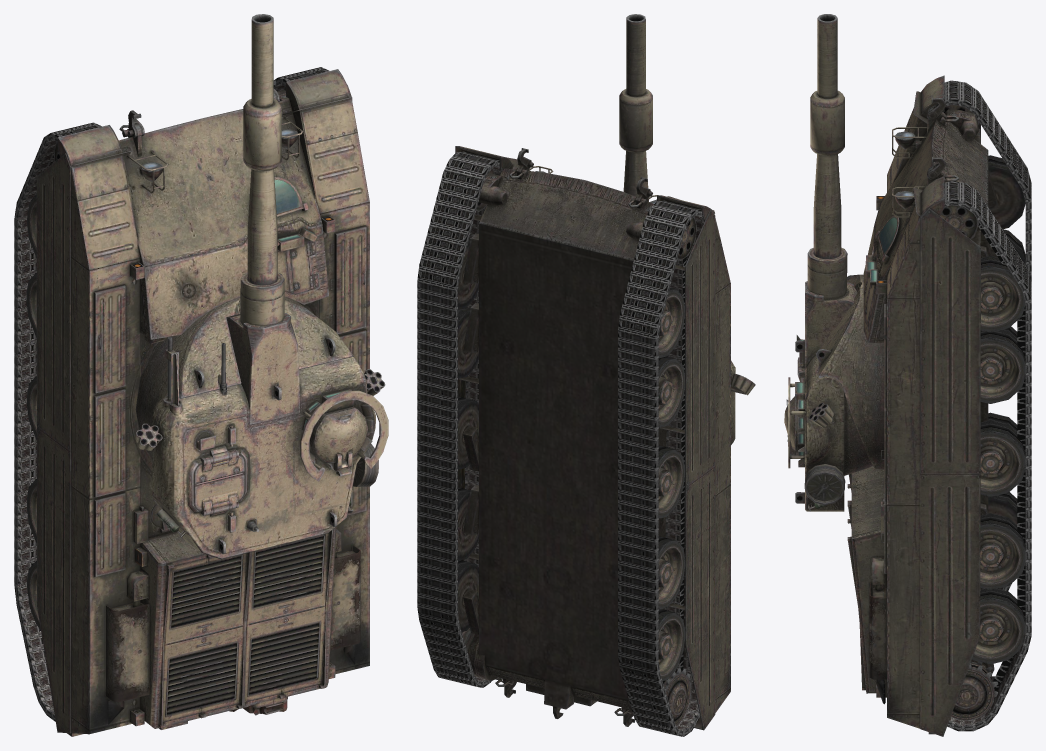
3 views of the same model, side by side, from view 1: azimuth 30°, elevation 25°; view 2: azimuth 150°, elevation 25°; view 3: azimuth 270°, elevation 25° (orthographic). The views are drawn at different scales.
Parts seen in each view (by area): view 1: hull, gun_01_mask, chassis_track_L, turret_01, gun_01; view 2: hull, chassis_track_L, chassis_track_R, gun_01, chassis_wheel_L_05, chassis_wheel_L_03, chassis_wheel_L_04, chassis_wheel_L_06, chassis_wheel_L_02, chassis_wheel_L_07, chassis_wheel_R_04, chassis_wheel_R_06 (+4 smaller); view 3: hull, gun_01_mask, chassis_track_R, gun_01, turret_01, chassis_track_L, chassis_wheel_R_06, chassis_wheel_R_05, chassis_wheel_R_04, chassis_wheel_R_03, chassis_wheel_R_02, chassis_wheel_R_07 (+3 smaller).
Part boxes in pixels (<box>): hull: <box>36,69,369,736</box>; gun_01_mask: <box>135,272,388,559</box>; chassis_track_L: <box>14,122,101,721</box>; turret_01: <box>135,297,353,460</box>; gun_01: <box>243,14,281,285</box>; hull: <box>455,146,730,730</box>; chassis_track_L: <box>618,200,704,736</box>; chassis_track_R: <box>417,151,502,687</box>; gun_01: <box>619,14,652,201</box>; chassis_wheel_L_05: <box>658,536,685,609</box>; chassis_wheel_L_03: <box>658,356,684,427</box>; chassis_wheel_L_04: <box>658,445,684,518</box>; chassis_wheel_L_06: <box>658,609,685,680</box>; chassis_wheel_L_02: <box>658,288,684,358</box>; chassis_wheel_L_07: <box>662,668,690,725</box>; chassis_wheel_R_04: <box>458,396,478,469</box>; chassis_wheel_R_06: <box>458,560,478,631</box>; hull: <box>847,75,998,736</box>; gun_01_mask: <box>784,247,872,511</box>; chassis_track_R: <box>944,181,1031,731</box>; gun_01: <box>810,14,844,258</box>; turret_01: <box>816,274,884,469</box>; chassis_track_L: <box>944,80,1031,591</box>; chassis_wheel_R_06: <box>972,589,1025,664</box>; chassis_wheel_R_05: <box>980,513,1025,590</box>; chassis_wheel_R_04: <box>980,420,1025,496</box>; chassis_wheel_R_03: <box>980,329,1025,403</box>; chassis_wheel_R_02: <box>980,255,1025,332</box>; chassis_wheel_R_07: <box>951,661,998,720</box>.
Bounding box in the file's own units: 2.93 × 7.24 × 2.46.
Materials: 2 (2 with a texture image).
